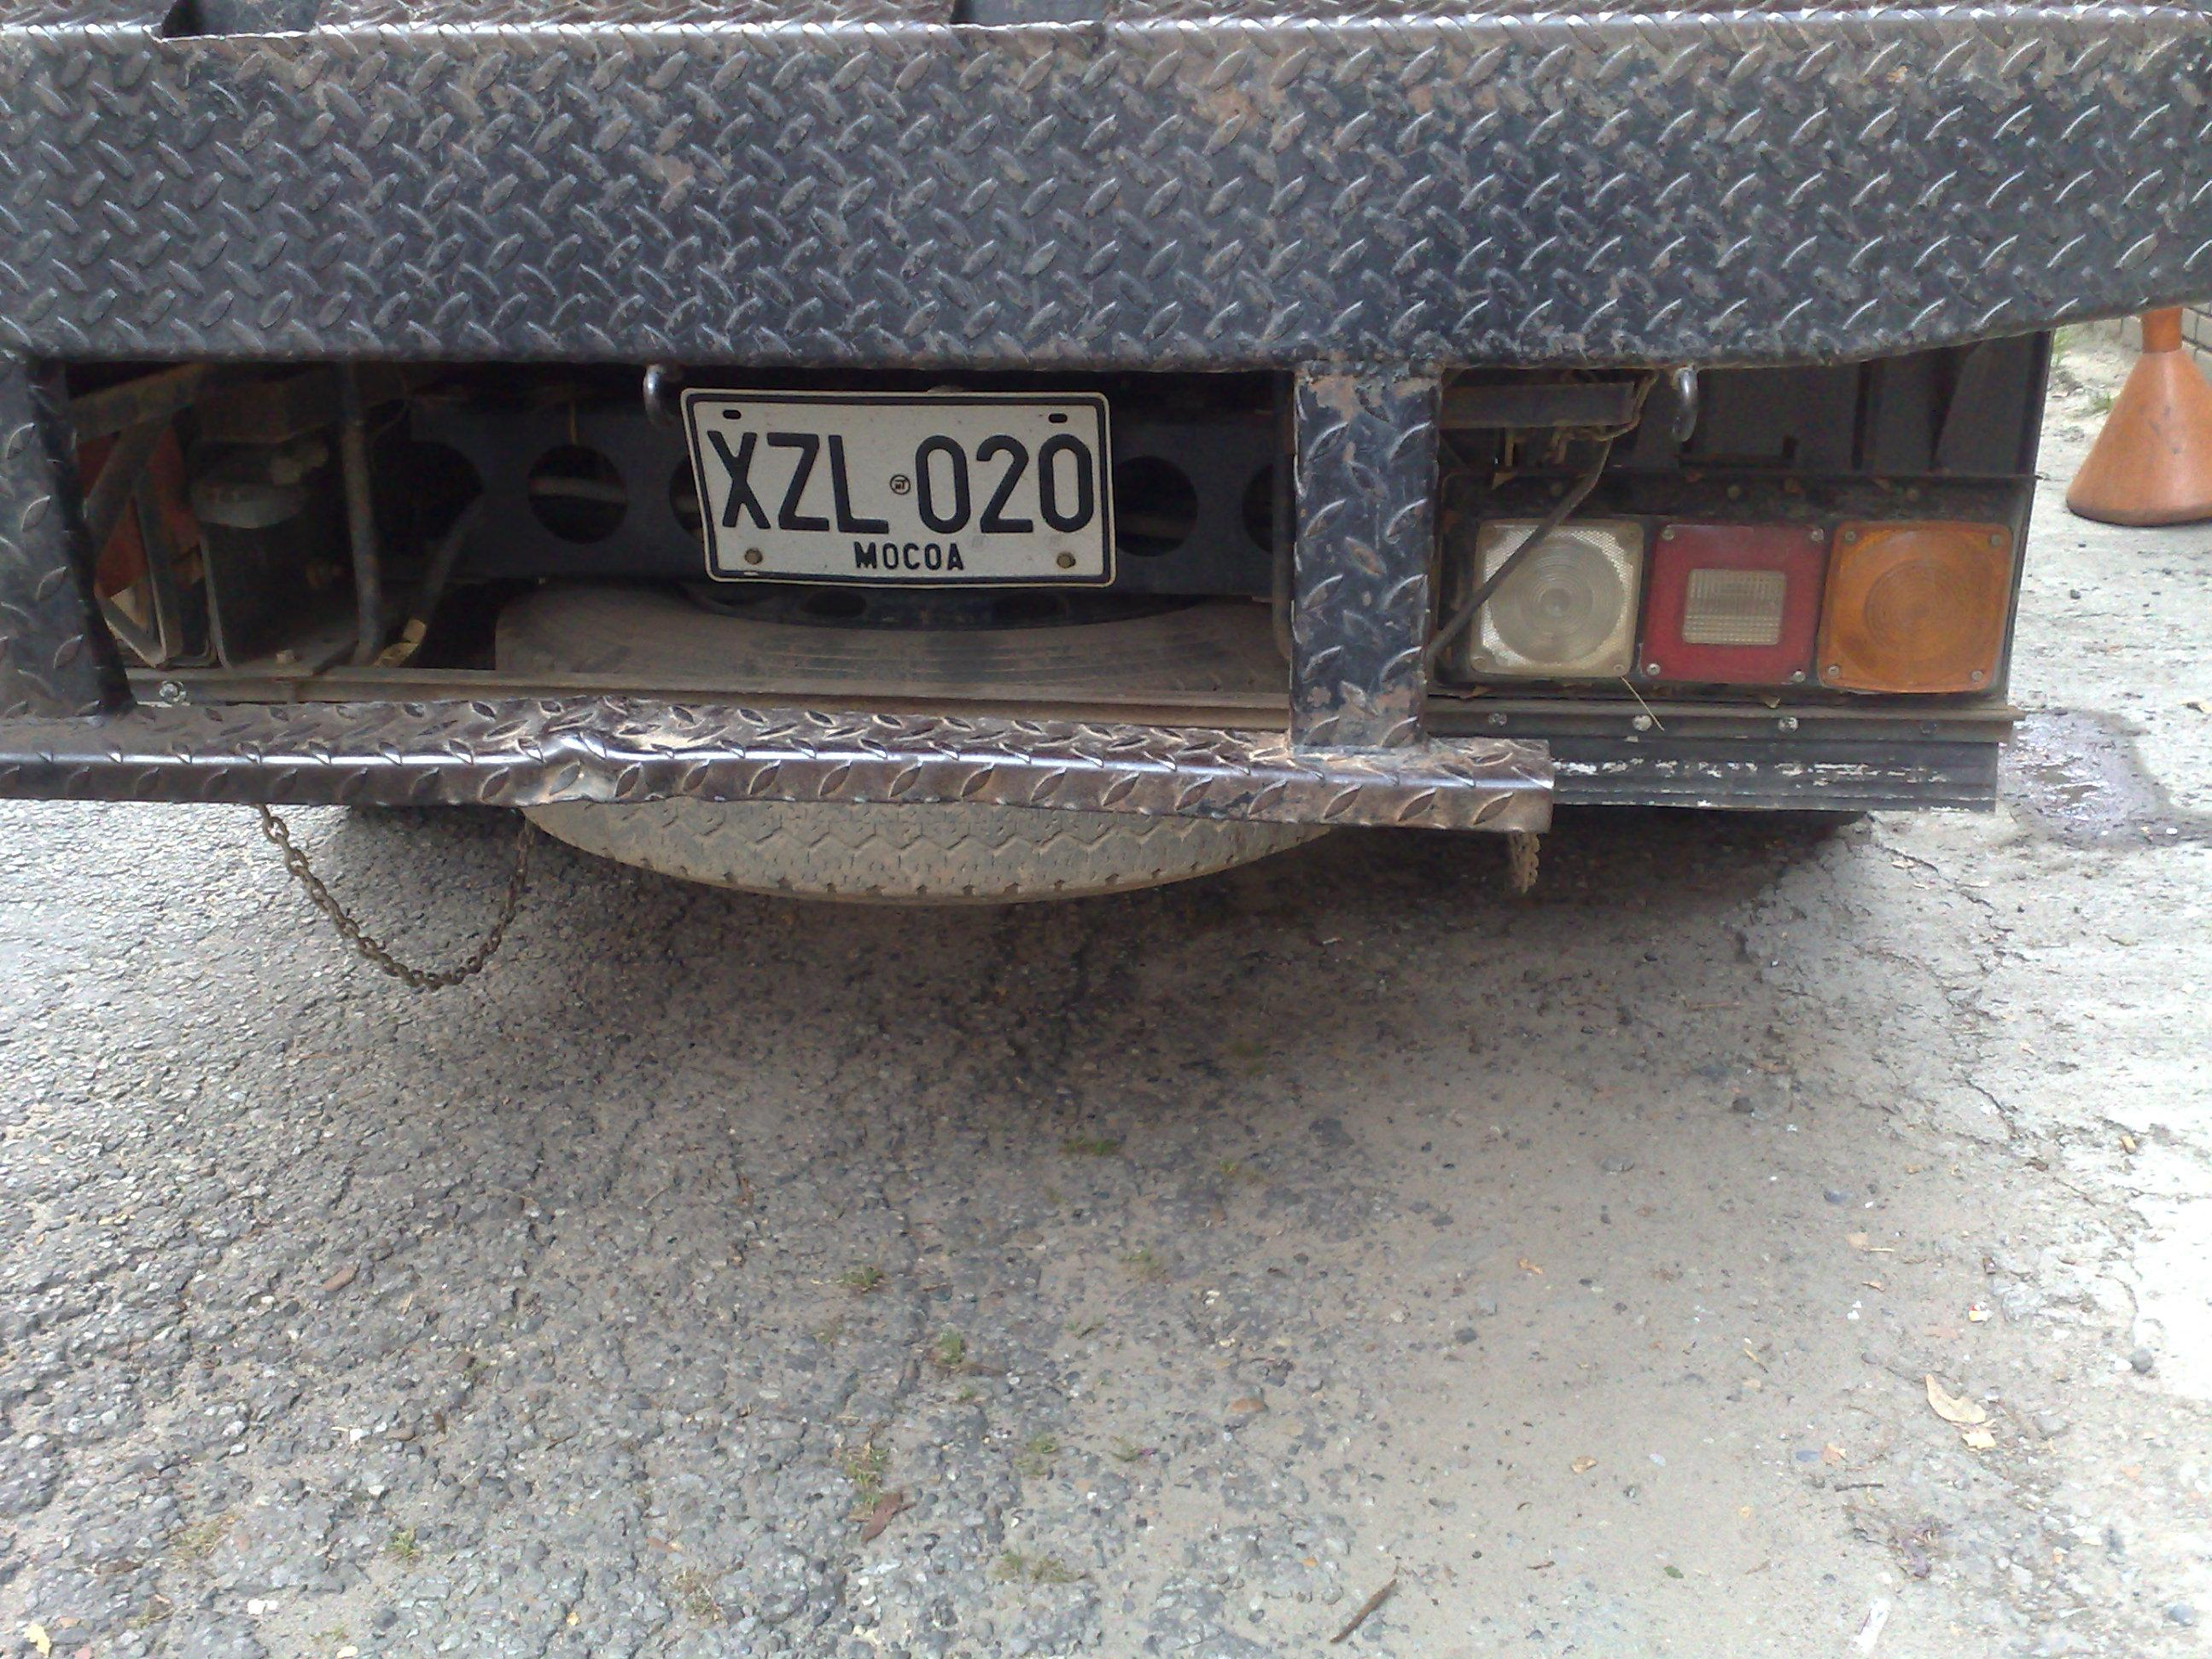placas: (672, 379, 1129, 598)
